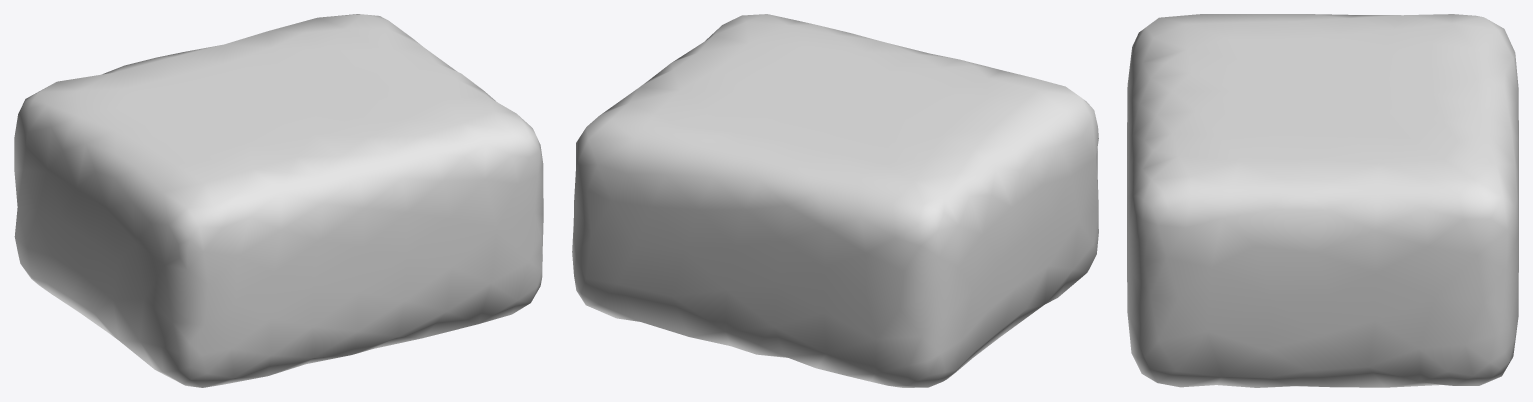
File: front_handle.obj
3 renders of one model, left to right at view 1: azimuth 30°, elevation 25°; view 2: azimuth 150°, elevation 25°; view 3: azimuth 270°, elevation 25°, orthographic. The views are drawn at different scales.
Visible parts, largest first — view 1: front_handle; view 2: front_handle; view 3: front_handle.
Part boxes in pixels (x1,y1,x2,y2): front_handle: [14, 14, 543, 387]; front_handle: [572, 14, 1098, 387]; front_handle: [1127, 14, 1518, 387].
Bounding box in the file's own units: 0.5 × 0.285 × 0.42.
Materials: 1 (1 with a texture image).
